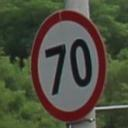speed_limit_70: (30, 9, 106, 122)
